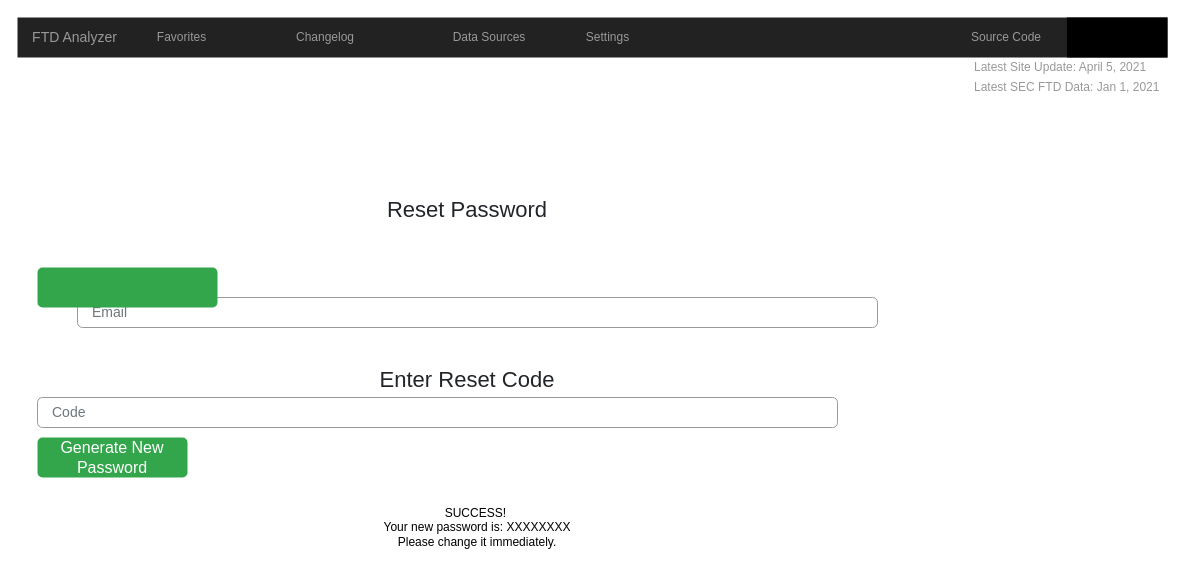
Some shapes in this 1184 by 566 pixel diagram are drawn without their labels. The centre of each missing label's shape, as x and y in pixels:
"Login" goes at (x=1116, y=37).
"Request Reset Code (good for 5 minutes)" goes at (x=127, y=287).
